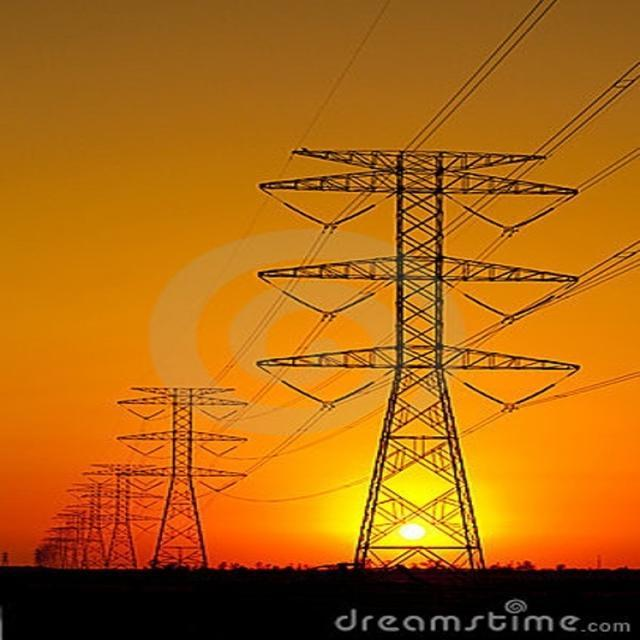non-critical vegetation: (234, 118, 586, 561), (86, 353, 236, 561)
